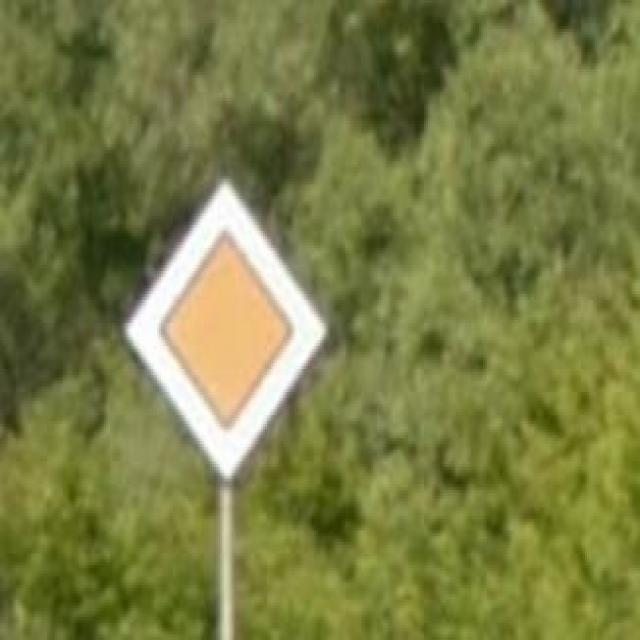Droga z pierwszenstwem: (122, 179, 330, 484)
